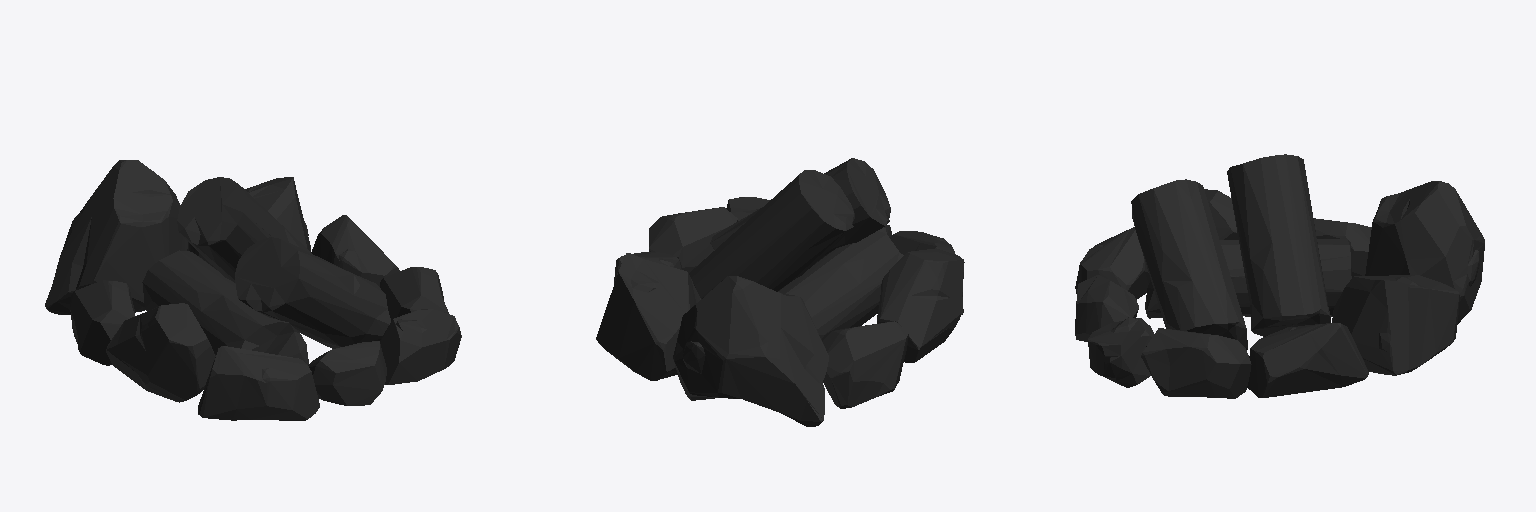
File: en_campfire_01.obj
3 views of the same model, side by side, from view 1: azimuth 30°, elevation 25°; view 2: azimuth 150°, elevation 25°; view 3: azimuth 270°, elevation 25° (orthographic).
Parts seen in each view (by area): view 1: obj1; view 2: obj1; view 3: obj1.
Part boxes in pixels (x1,y1,x2,y2): obj1: (45, 160, 461, 420); obj1: (596, 158, 964, 426); obj1: (1075, 154, 1484, 398).
Bounding box in the file's own units: 8.91 × 4.86 × 10.46.